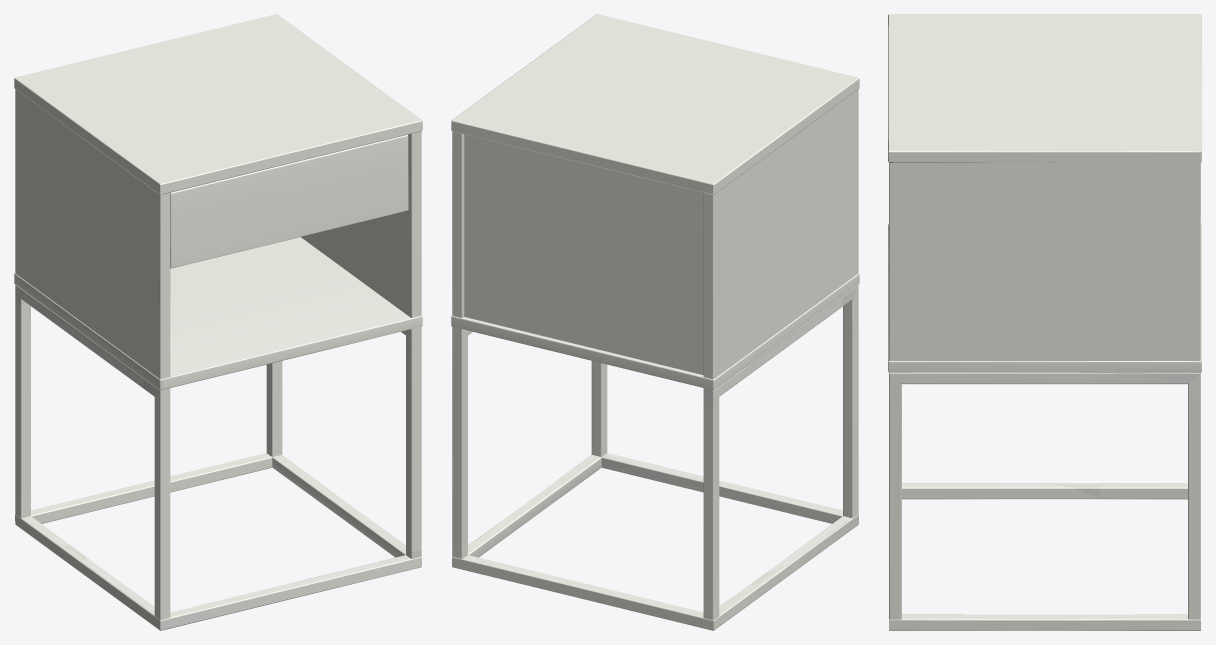
3 renders of one model, left to right at view 1: azimuth 30°, elevation 25°; view 2: azimuth 150°, elevation 25°; view 3: azimuth 270°, elevation 25°, orthographic. The views are drawn at different scales.
Parts seen in each view (by area): view 1: Mesh_5231933931232946701; view 2: Mesh_5231933931232946701; view 3: Mesh_5231933931232946701.
Boxes of the visible parts, bbox=[...] form: Mesh_5231933931232946701: bbox=[14, 14, 422, 630]; Mesh_5231933931232946701: bbox=[451, 14, 859, 630]; Mesh_5231933931232946701: bbox=[888, 14, 1201, 630].
Bounding box in the file's own units: 0.4 × 0.6518 × 0.385.
2 materials, 1 textured.
